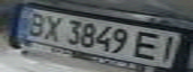3: (60, 17, 84, 46)
4: (93, 24, 115, 53)
8: (78, 20, 100, 50)
9: (109, 26, 136, 56)
B: (18, 10, 51, 37)
E: (130, 29, 169, 61)
I: (154, 34, 184, 62)
X: (36, 12, 66, 42)
